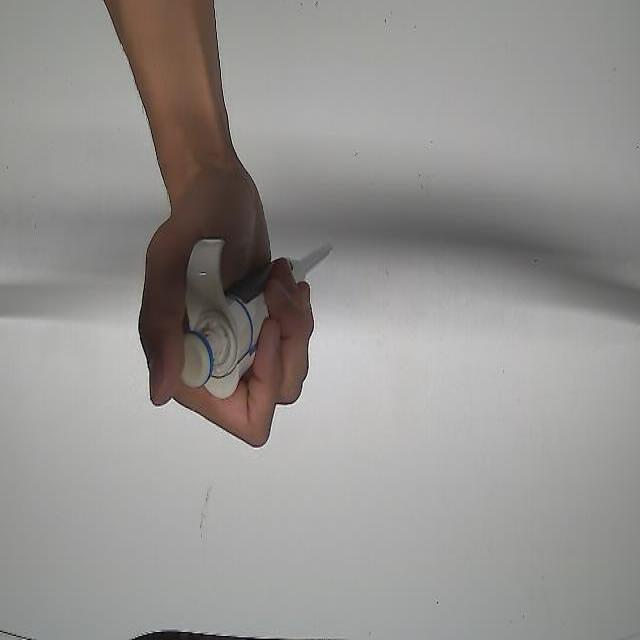Single Channel Pipettor: (170, 230, 340, 401)
